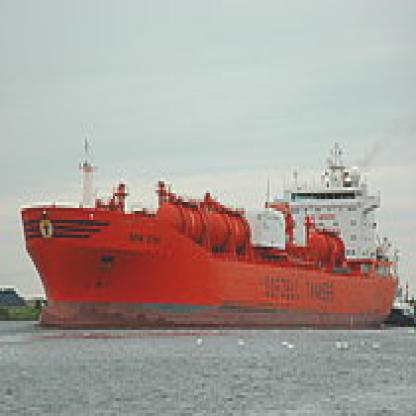Tanker: (37, 145, 416, 329)
